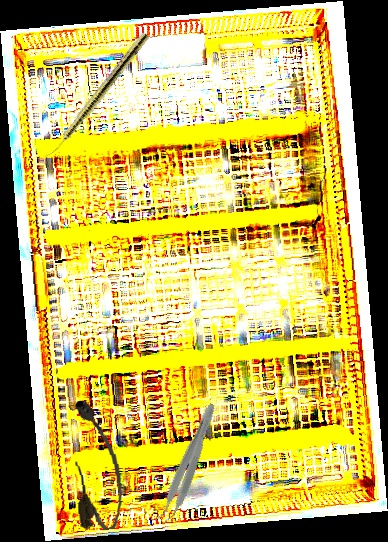Cannula: (66, 397, 127, 533)
Handpiece: (42, 29, 151, 165)
Tissue Forceps: (153, 399, 221, 529)
